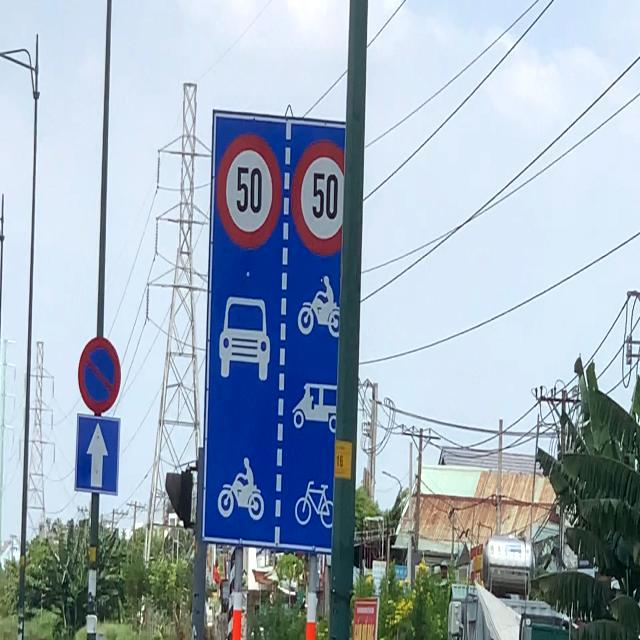Cam do xe: (78, 336, 122, 412)
Duong mot chieu: (74, 413, 120, 495)
